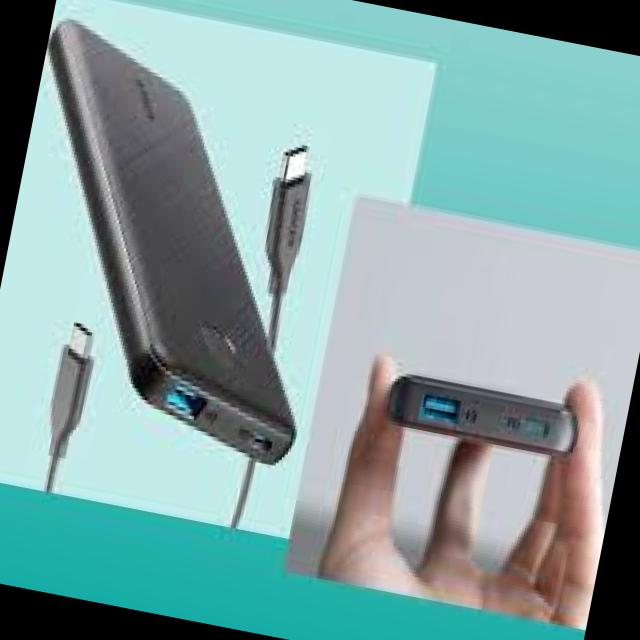power_bank: (0, 9, 366, 469), (380, 370, 587, 462)
